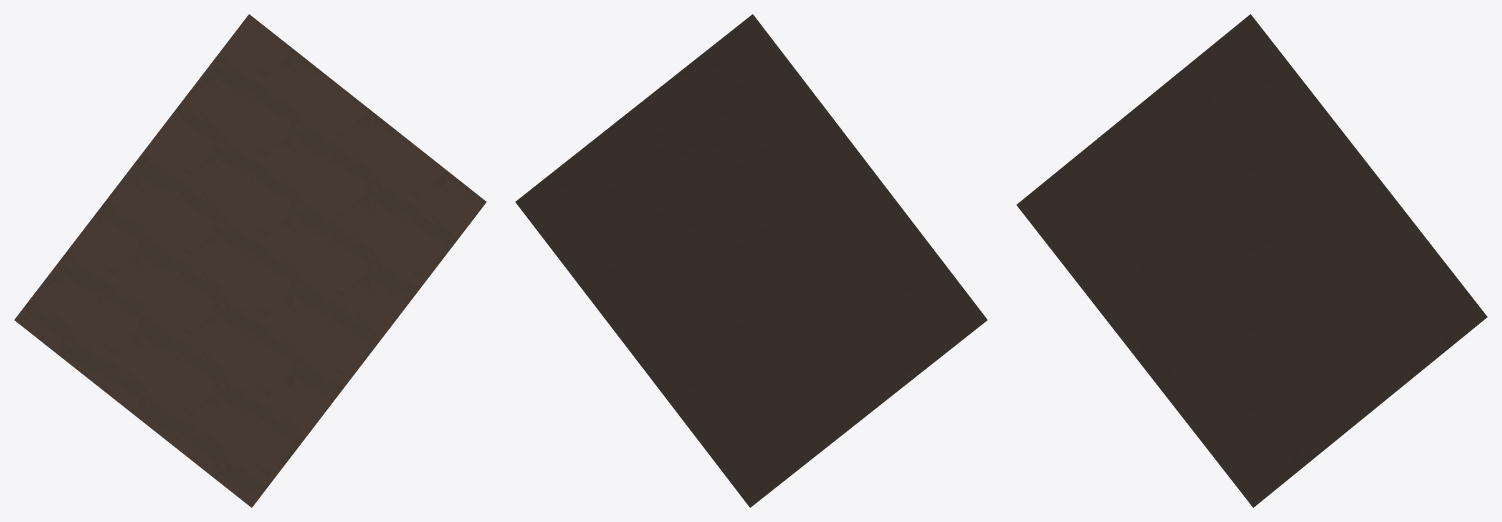
The model's file is mud_water.glb.
3 renders of one model, left to right at view 1: azimuth 30°, elevation 25°; view 2: azimuth 150°, elevation 25°; view 3: azimuth 330°, elevation 25°, orthographic.
Visible parts, largest first — view 1: mudwater.png__; view 2: mudwater.png__; view 3: mudwater.png__.
Part boxes in pixels (x1,y1,x2,y2): mudwater.png__: (14, 14, 486, 507); mudwater.png__: (515, 14, 987, 507); mudwater.png__: (1016, 14, 1487, 507).
Bounding box in the file's own units: 58.34 × 58.34 × 0.
1 material, 1 textured.
